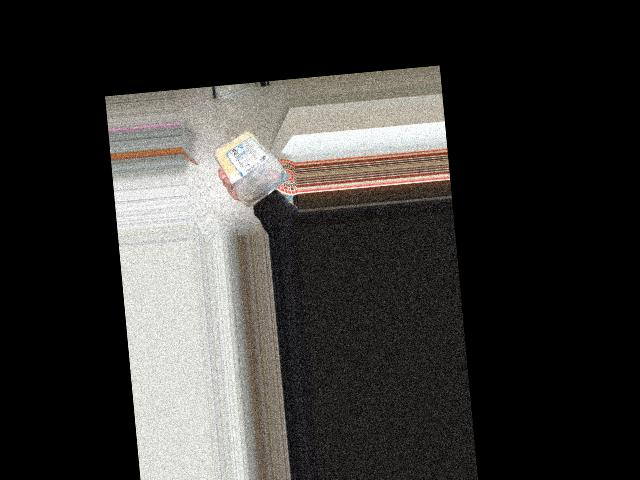cheese: (219, 122, 289, 204)
